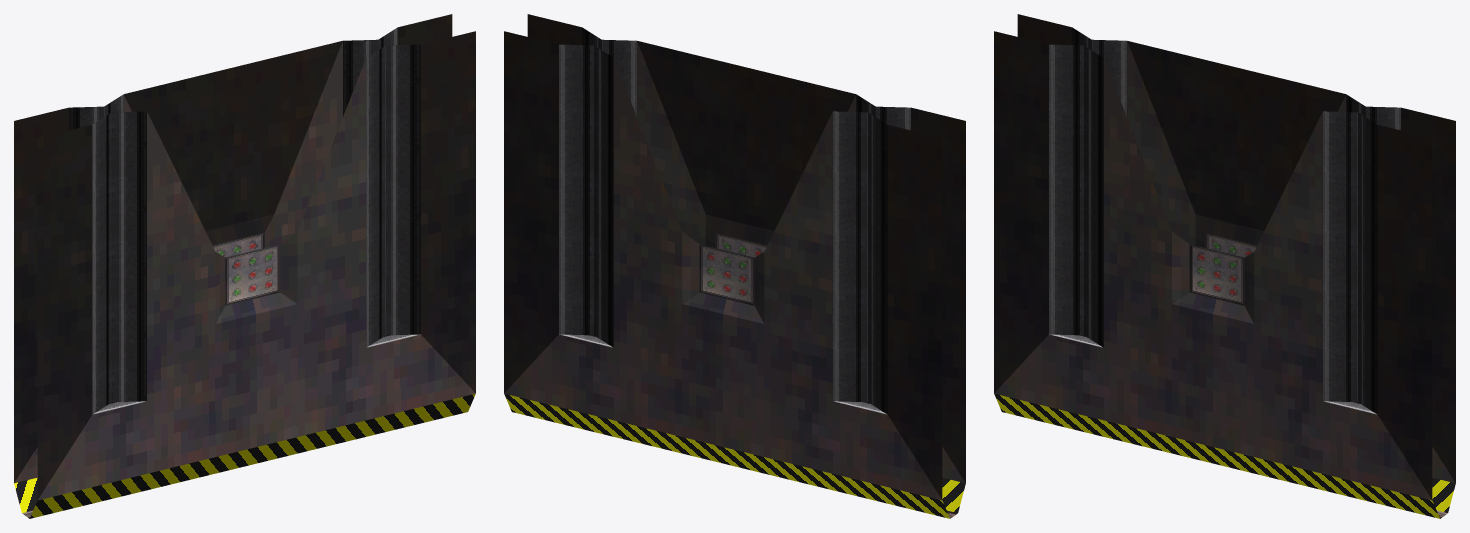
The model's file is blast_door.glb.
The picture shows the model from 3 angles, left to right: view 1: azimuth 30°, elevation 25°; view 2: azimuth 150°, elevation 25°; view 3: azimuth 330°, elevation 25°; orthographic projection.
Visible parts, largest first — view 1: Object; view 2: Object; view 3: Object.
Boxes of the visible parts, x1,y1,x2,y2 form: Object: (14,14,475,518); Object: (504,14,965,518); Object: (994,14,1455,518).
Size of the model in its own units: 4.55 by 3.84 by 0.4216.
7 materials, 7 textured.
